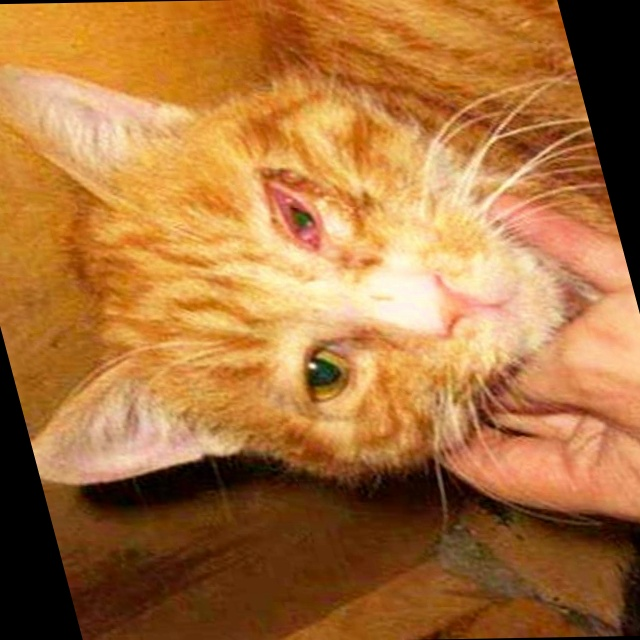eye_infection: (259, 178, 335, 251), (290, 338, 363, 400)
